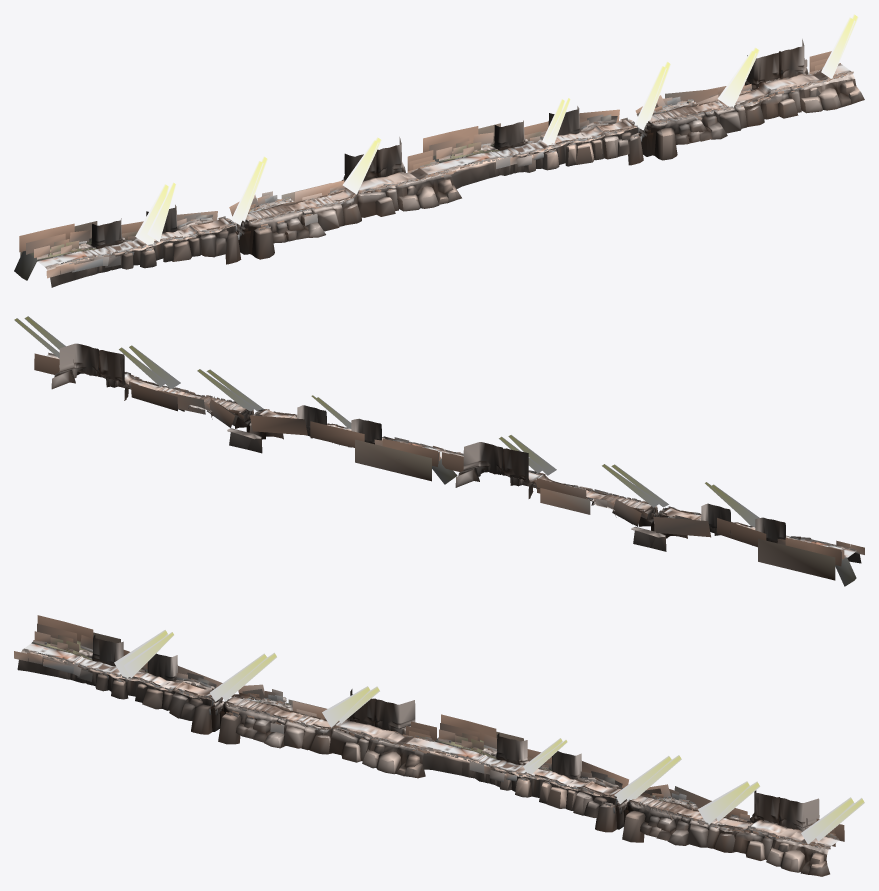
File: Forest_05.fbx
3 renders of one model, top to bottom at view 1: azimuth 30°, elevation 25°; view 2: azimuth 150°, elevation 25°; view 3: azimuth 330°, elevation 25°, orthographic.
Visible parts, largest first — view 1: Mountain_01, Tree_01, Ground_01, Light_01; view 2: Tree_01, Mountain_01, Light_01, Ground_01; view 3: Mountain_01, Tree_01, Light_01, Ground_01, Leak_A.
Boxes of the visible parts, left/top/right/bottom form: Mountain_01: left=14, top=39, right=864, bottom=287; Tree_01: left=19, top=51, right=853, bottom=278; Ground_01: left=37, top=65, right=850, bottom=267; Light_01: left=135, top=14, right=858, bottom=244; Tree_01: left=34, top=352, right=864, bottom=580; Mountain_01: left=50, top=343, right=861, bottom=586; Light_01: left=14, top=316, right=759, bottom=526; Ground_01: left=46, top=354, right=855, bottom=557; Mountain_01: left=17, top=635, right=830, bottom=876; Tree_01: left=14, top=615, right=844, bottom=849; Light_01: left=114, top=630, right=864, bottom=843; Ground_01: left=23, top=643, right=839, bottom=846; Leak_A: left=133, top=670, right=750, bottom=828.
Bounding box in the file's own units: 72959 × 6778 × 5482.
